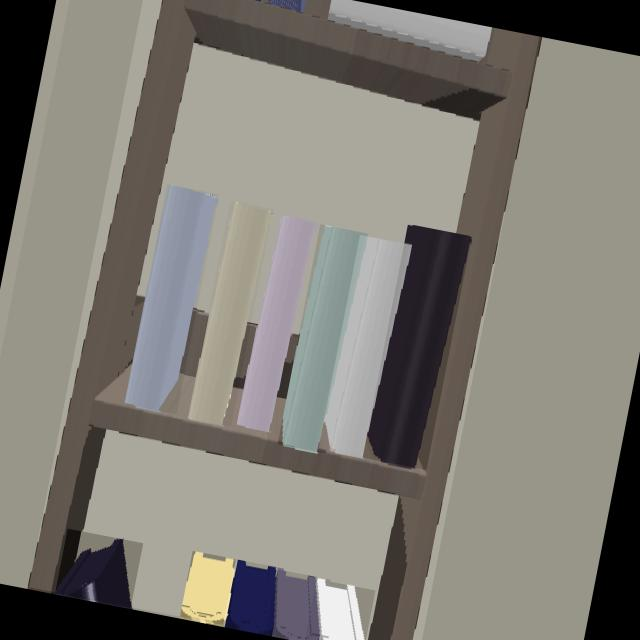book: (369, 227, 471, 467), (125, 186, 217, 411), (325, 237, 411, 456), (284, 226, 367, 452), (189, 202, 271, 425), (237, 216, 316, 431), (56, 540, 130, 607), (181, 552, 234, 624), (226, 560, 276, 633), (273, 571, 320, 640), (317, 580, 365, 640)
shelf: (29, 0, 539, 640)
